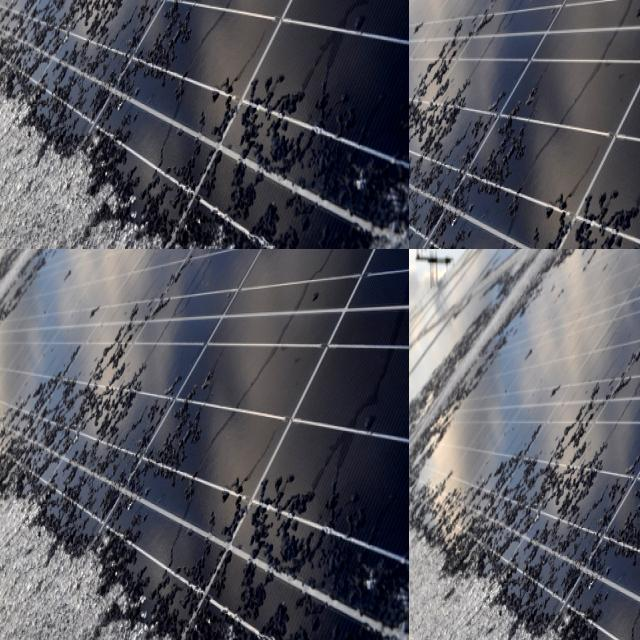bird: (409, 94, 438, 166), (409, 131, 431, 201), (409, 89, 425, 153)
dust: (89, 0, 177, 120), (0, 133, 78, 249), (104, 136, 177, 249), (0, 13, 63, 131), (0, 1, 45, 132), (0, 0, 48, 122), (0, 149, 50, 249), (0, 144, 37, 249), (55, 0, 176, 29), (72, 0, 171, 35), (39, 0, 177, 24), (0, 0, 90, 35), (61, 0, 172, 23), (0, 0, 48, 41), (0, 0, 72, 26), (0, 0, 50, 36), (0, 0, 61, 25), (0, 0, 37, 39), (0, 0, 38, 33), (0, 0, 33, 36), (0, 0, 15, 41)
panel: (475, 249, 569, 356), (503, 582, 618, 640), (426, 562, 497, 640), (409, 359, 457, 470), (558, 249, 640, 285), (409, 433, 438, 530), (409, 484, 429, 622), (409, 561, 449, 627)
